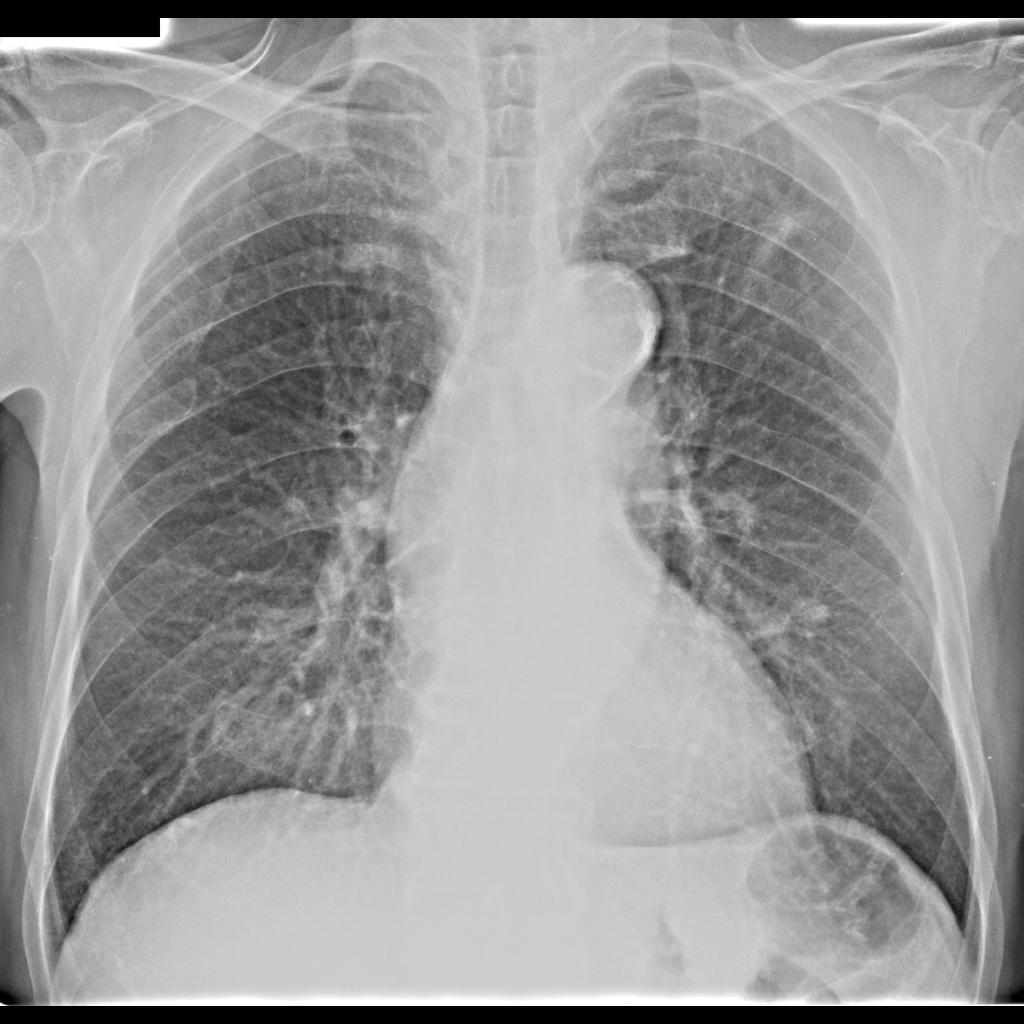Nodule: (760, 204, 807, 251)
